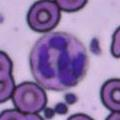N: (28, 31, 88, 90)
